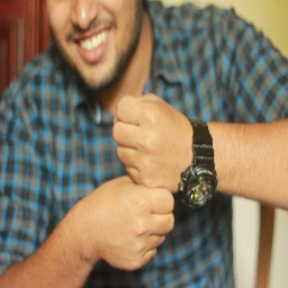G: (90, 91, 190, 273)
